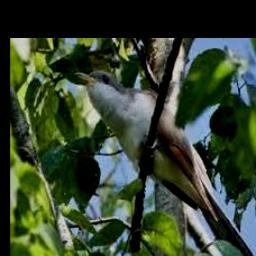Cuckoo: (75, 69, 256, 256)
